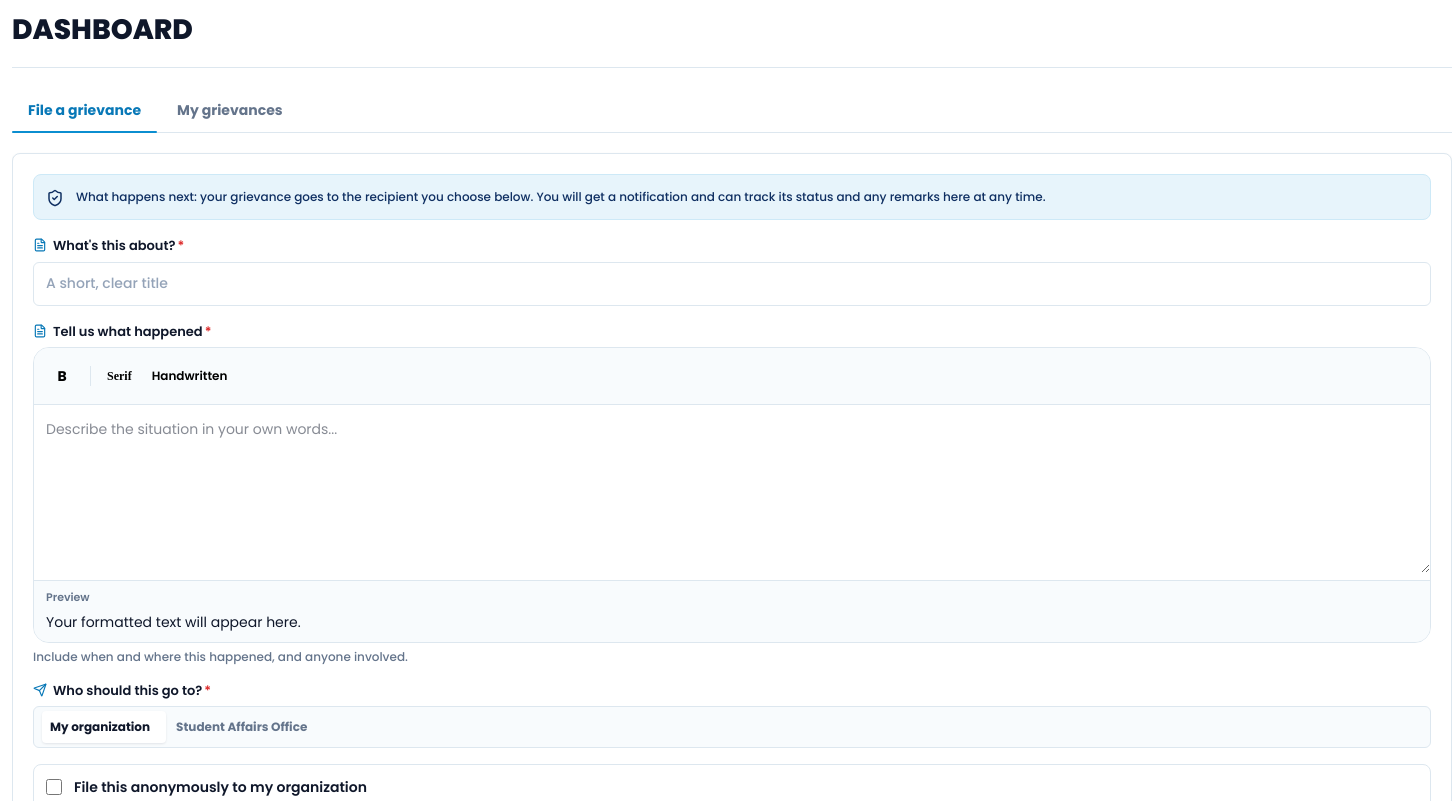
StudentGrievancesPage › hides the anonymity toggle when addressed directly to SAO, since the org never sees it
Expected: the text "File this anonymously to my organization" is shown, x1=74 y1=777 x2=367 y2=797
Click the radio button labelled "Student Affairs Office" at point(242, 727), box x1=164 y1=711 x2=319 y2=743
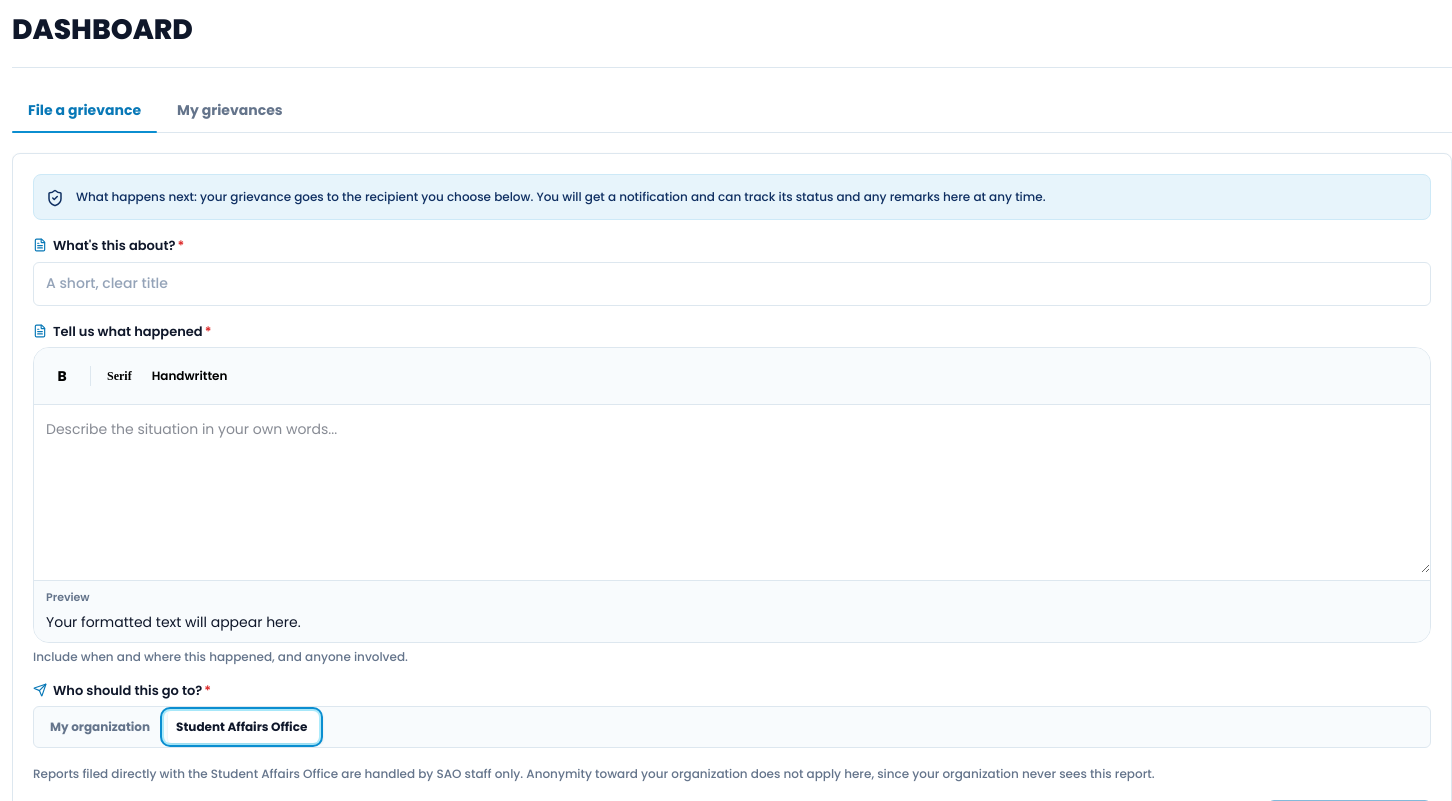
Result: the text "File this anonymously to my organization" is gone
